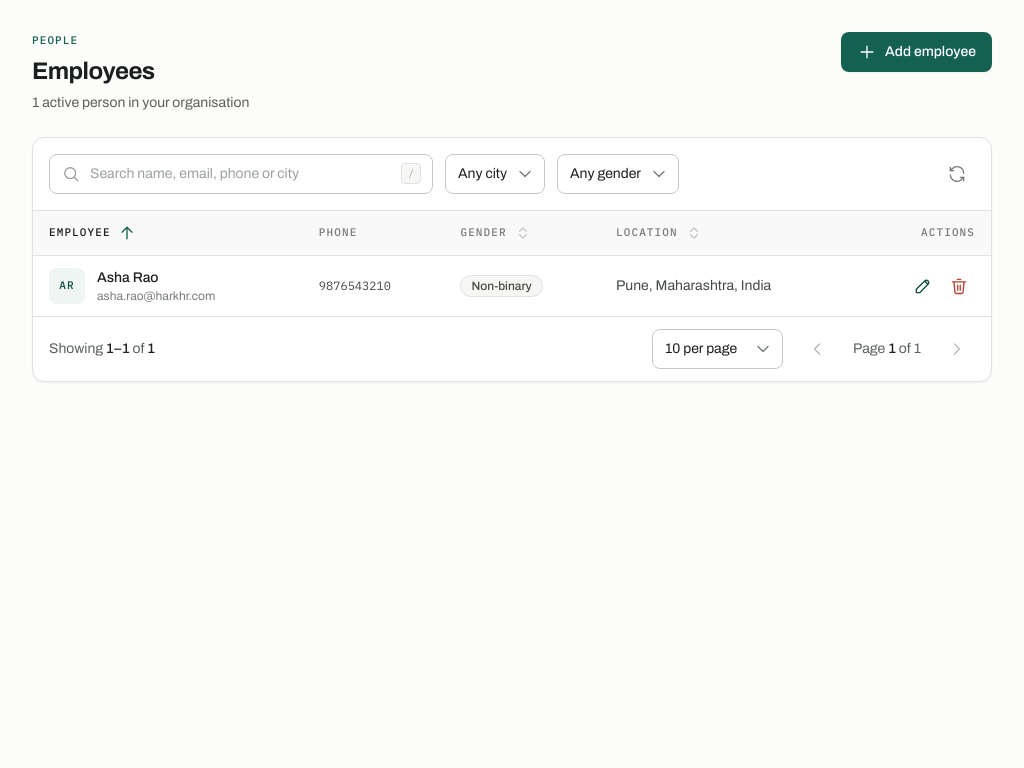
EmployeesPage — editing › keeps a gender value the dropdown does not normally offer
Expected: the heading "Employees" is shown, [32, 58, 155, 84]
Expected: the button "Asha Rao" is shown, [97, 268, 158, 288]
Click the button named "Edit Asha Rao" at [923, 286], box [907, 270, 939, 302]
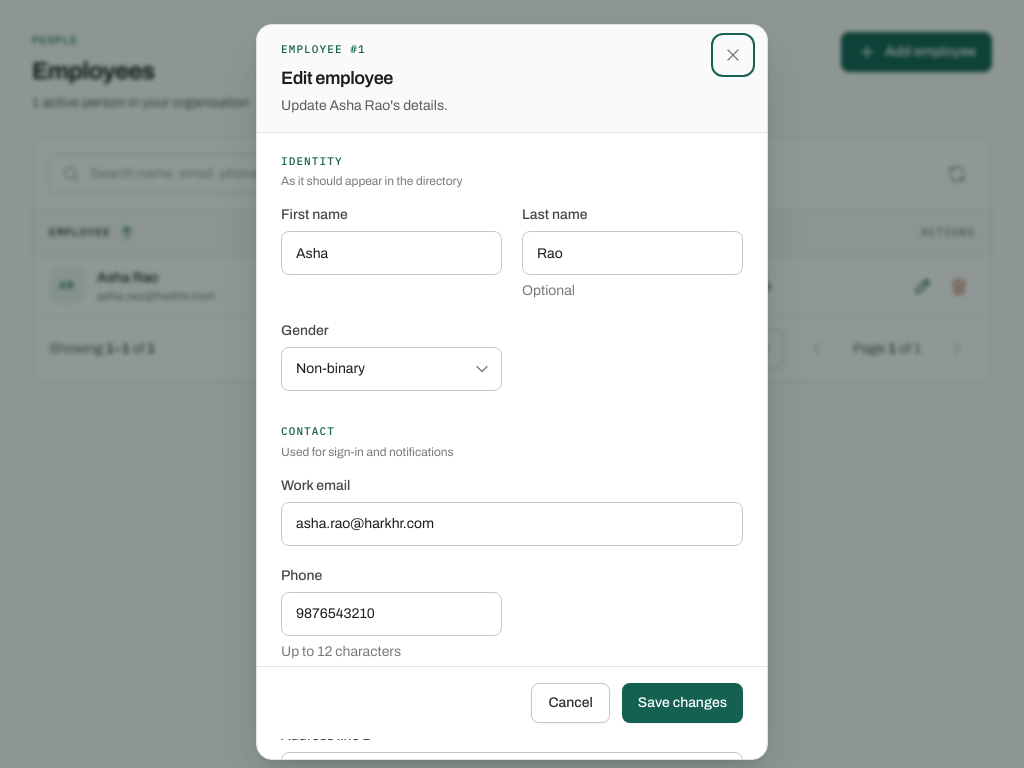
Expected: the dropdown labelled "Gender" shows "Non-binary", [281, 347, 502, 391]
